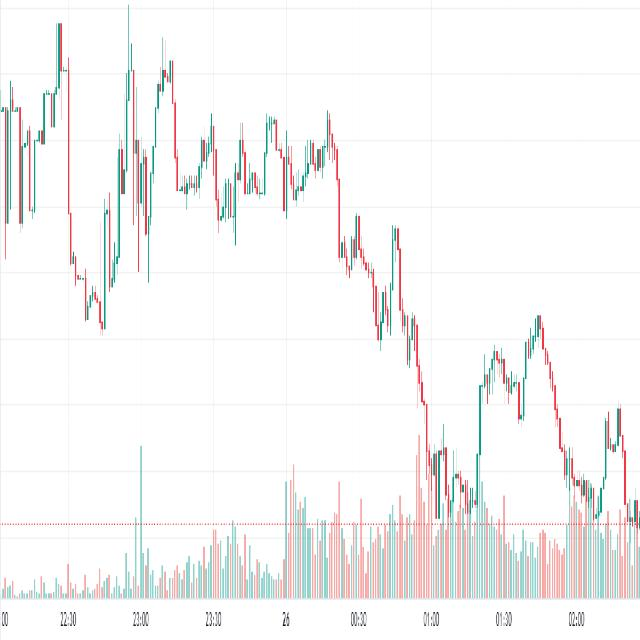Descending-Triangle: (113, 7, 262, 222)
Double-Top: (599, 393, 630, 499)
rectangle: (170, 100, 344, 228)
